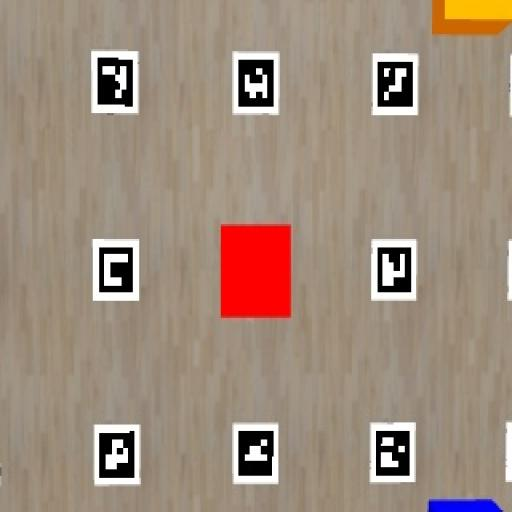car: (428, 500, 502, 511)
fire: (221, 224, 291, 317), (432, 0, 511, 36)
